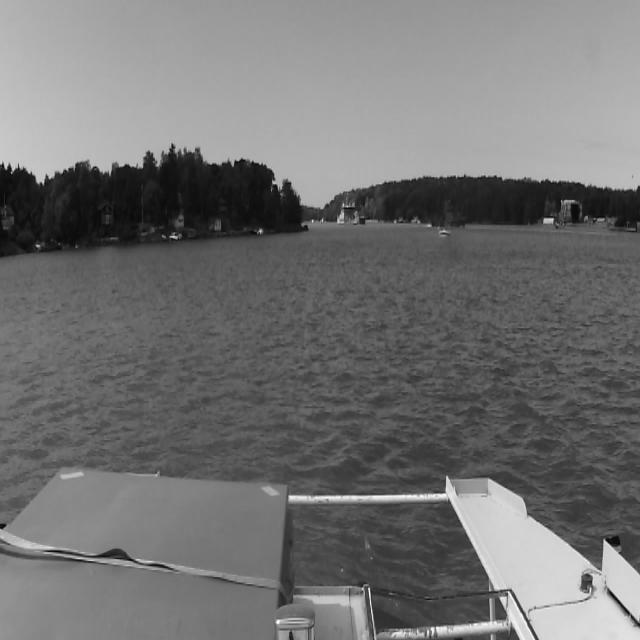ship: (439, 228, 451, 238)
